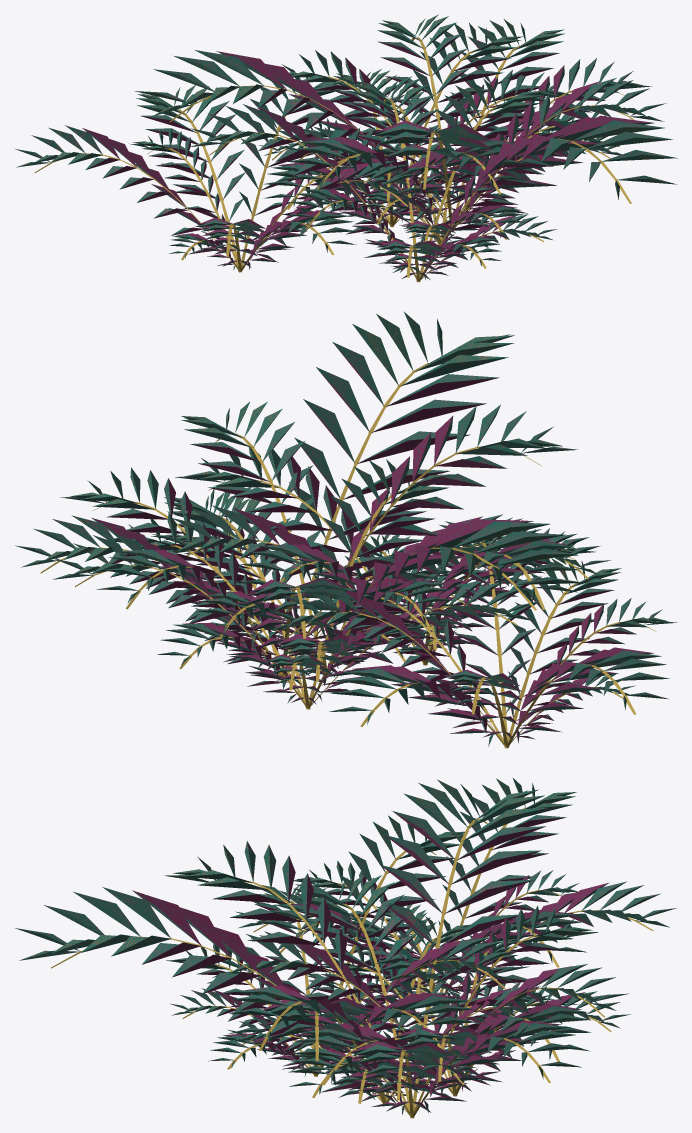
Rendered from coral_fern.glb.
3 renders of one model, top to bottom at view 1: azimuth 30°, elevation 25°; view 2: azimuth 150°, elevation 25°; view 3: azimuth 270°, elevation 25°, orthographic. The views are drawn at different scales.
Visible parts, largest first — view 1: coral_fern; view 2: coral_fern; view 3: coral_fern.
Boxes of the visible parts, x1=… form: coral_fern: x1=15, y1=14, x2=677, y2=282; coral_fern: x1=15, y1=312, x2=677, y2=748; coral_fern: x1=15, y1=778, x2=676, y2=1118.
Bounding box in the file's own units: 3.16 × 0.9923 × 2.9.
